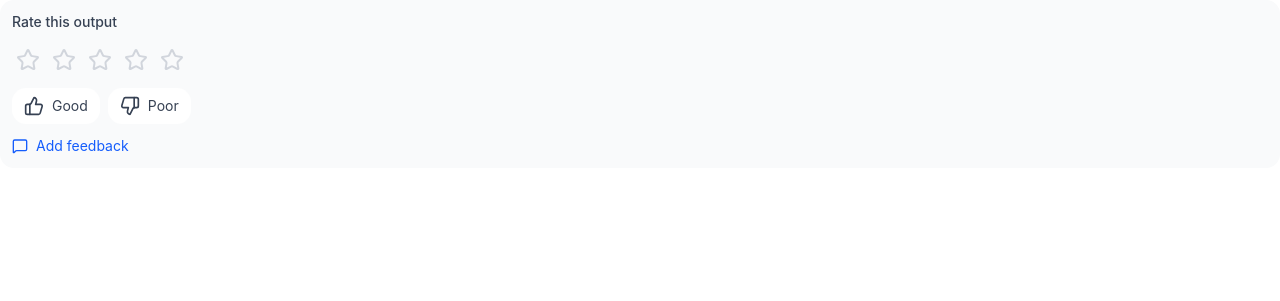
Test: RatingWidget › should show feedback textarea when add feedback clicked
This screenshot has width=1280, height=301.
What coordinates should you click on to do the following:
click the button "Add feedback"
I would click on:
 (70, 146)
Its box is [12,136,129,156].
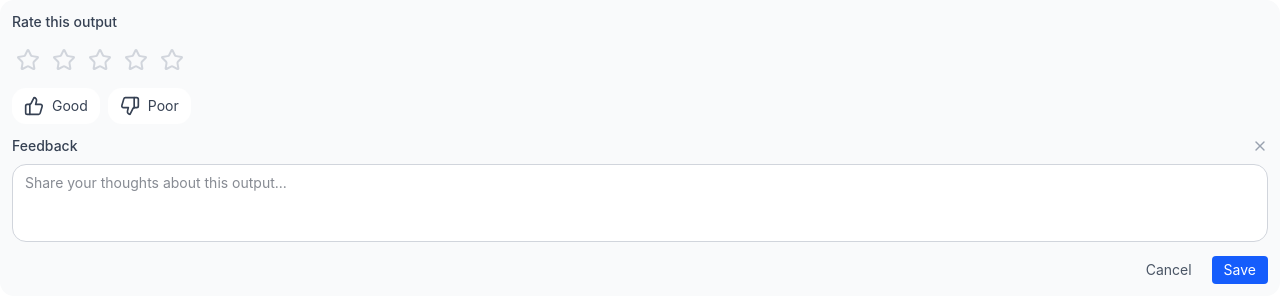
Check: the text box with placeholder "Share your thoughts about this output..." is shown, box [12,164,1268,242]
